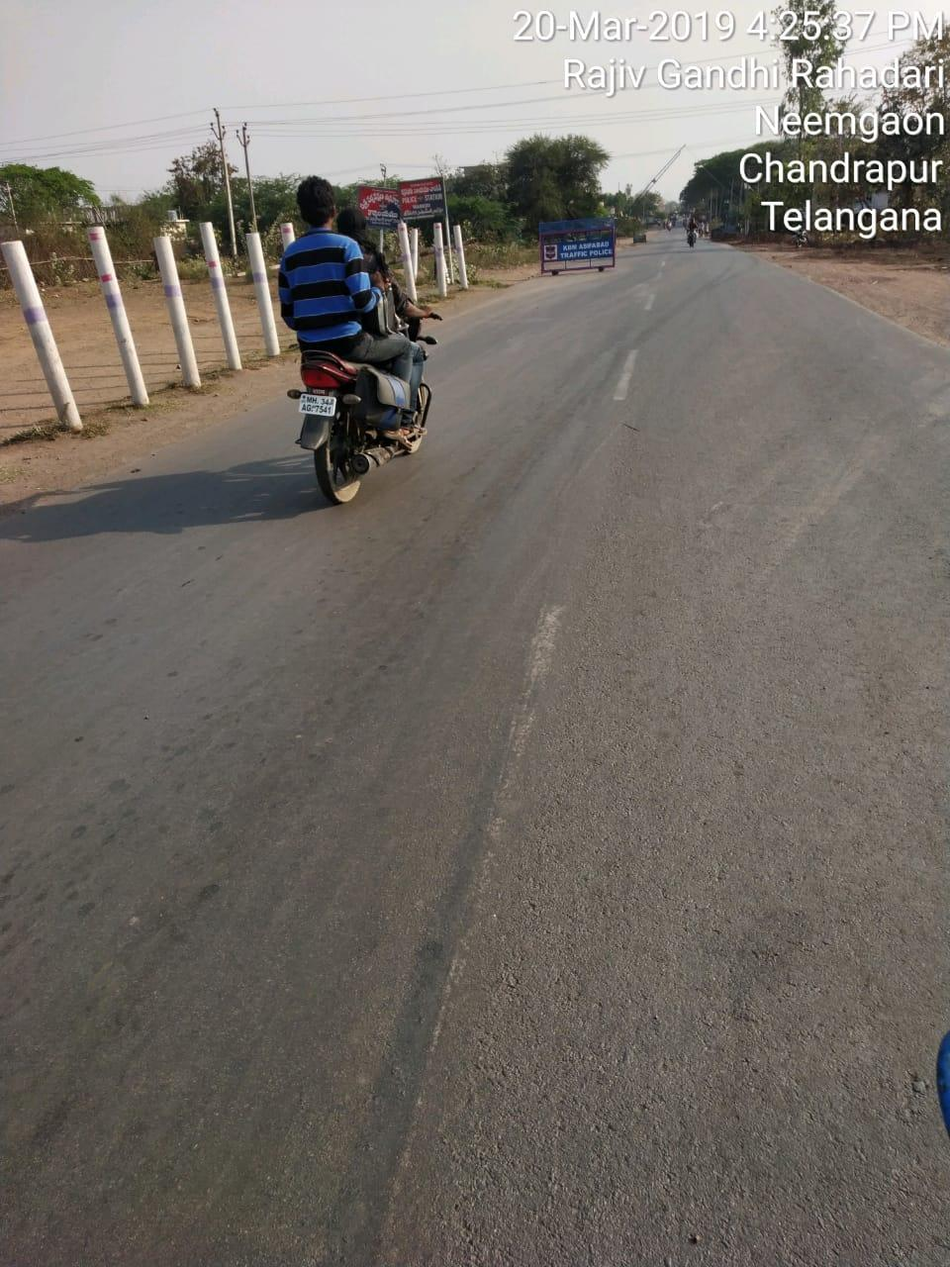plate: (293, 391, 339, 422)
